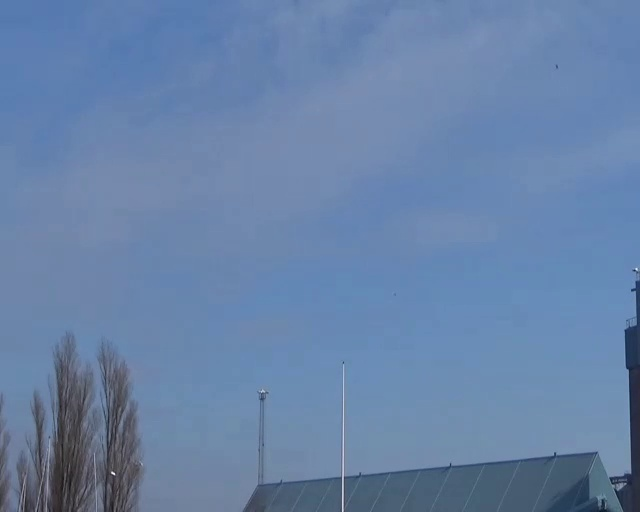BIRD: (553, 62, 561, 71)
